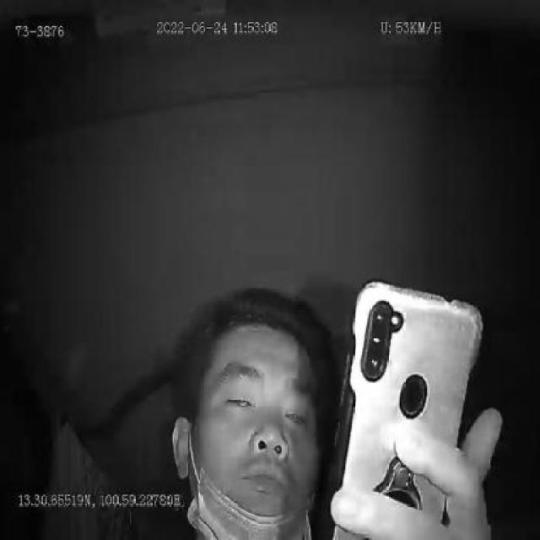phone: (330, 282, 484, 540)
